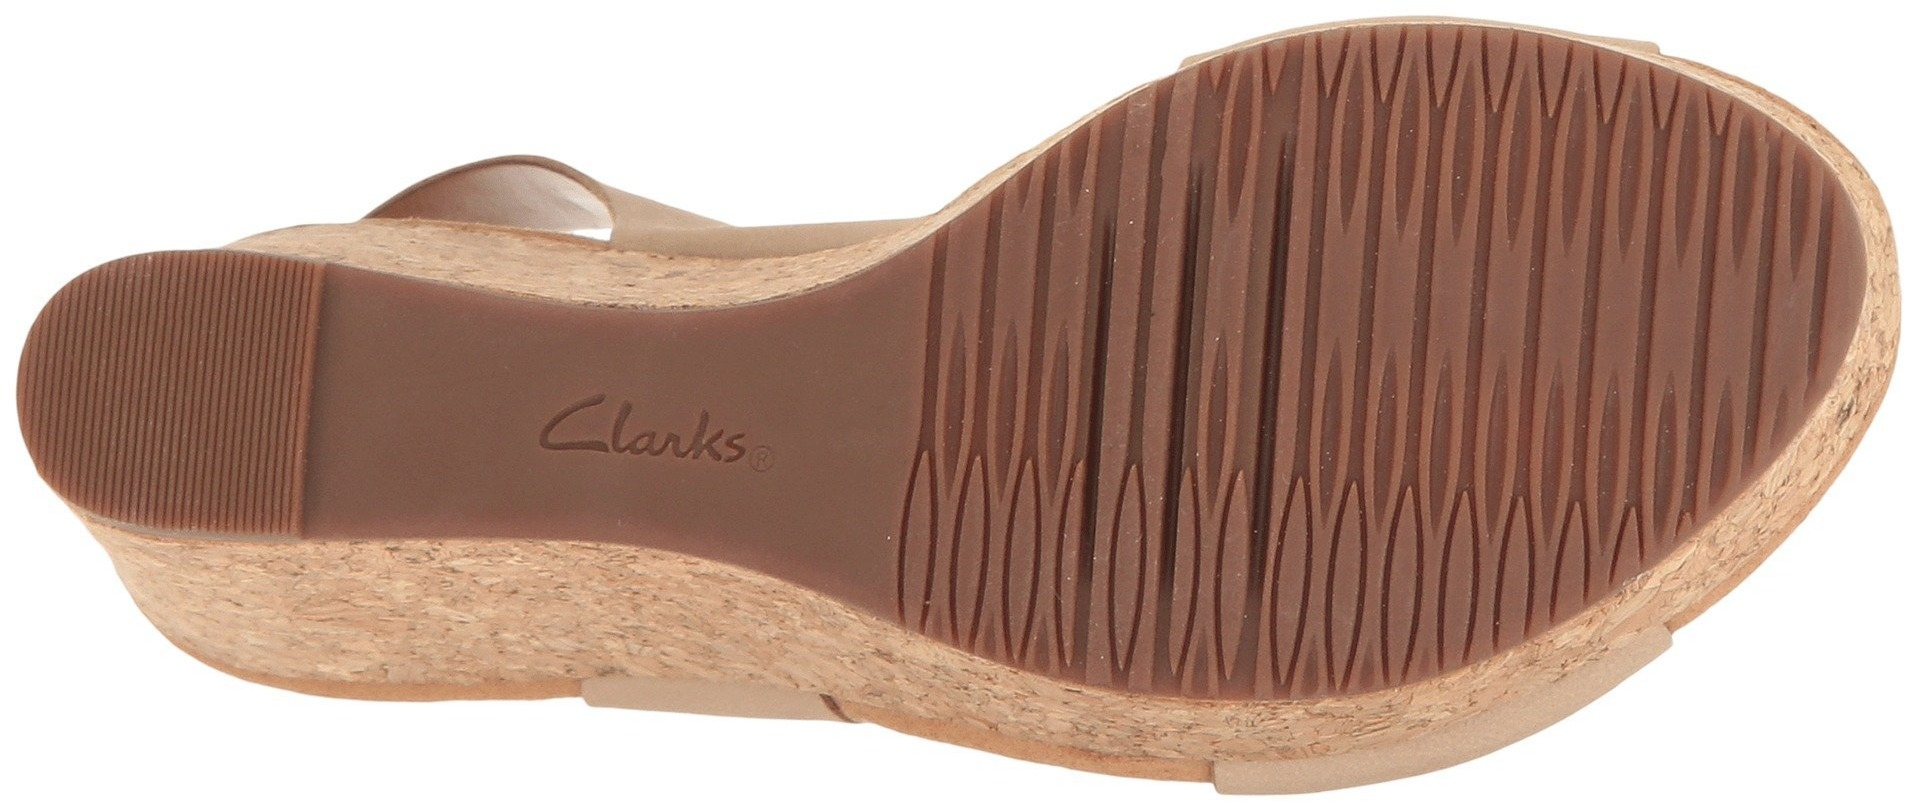circle: (537, 350, 821, 512)
line: (957, 203, 1455, 660), (1247, 63, 1729, 519), (1481, 119, 1760, 434)
other: (66, 283, 289, 503), (324, 329, 514, 519)
text: (537, 350, 821, 512), (526, 362, 734, 546)
